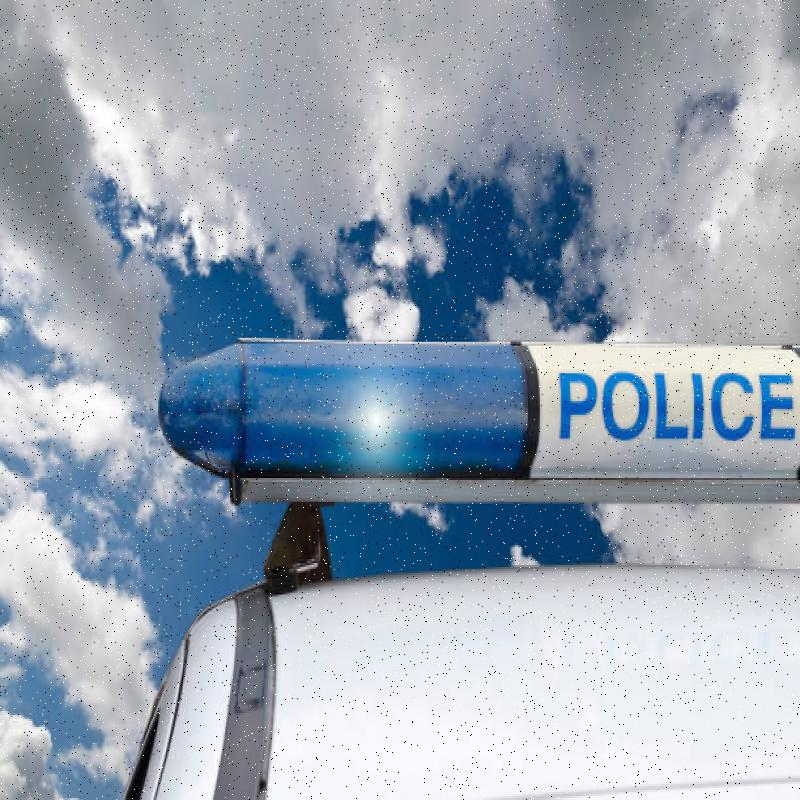AmbulanceSiren: (146, 262, 800, 544)
